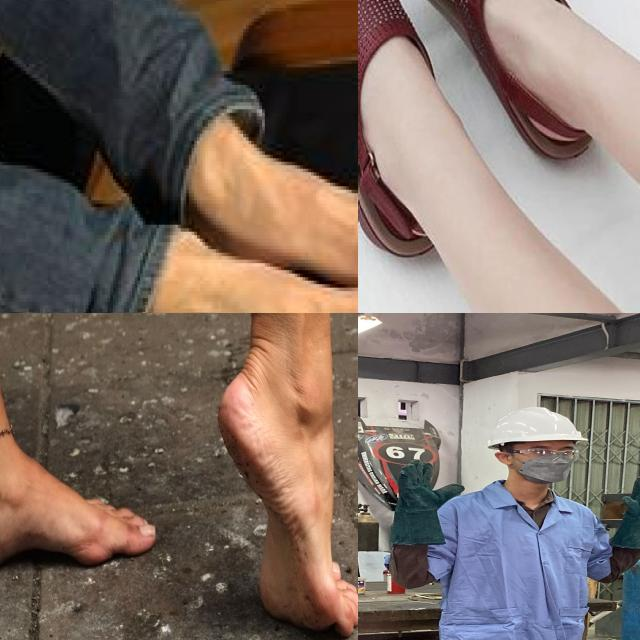Barefoots: (217, 349, 358, 636), (193, 188, 358, 313), (0, 446, 156, 577)
Sandals: (358, 0, 611, 299)
face_mask: (513, 442, 587, 485)
glasses: (499, 444, 584, 461)
hand_glove: (377, 455, 469, 517), (603, 473, 640, 531)
head_helmet: (486, 406, 588, 447)
person: (359, 405, 640, 640)
